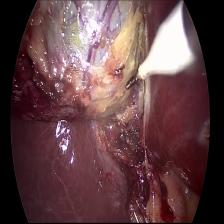Hook: (122, 3, 196, 100)
